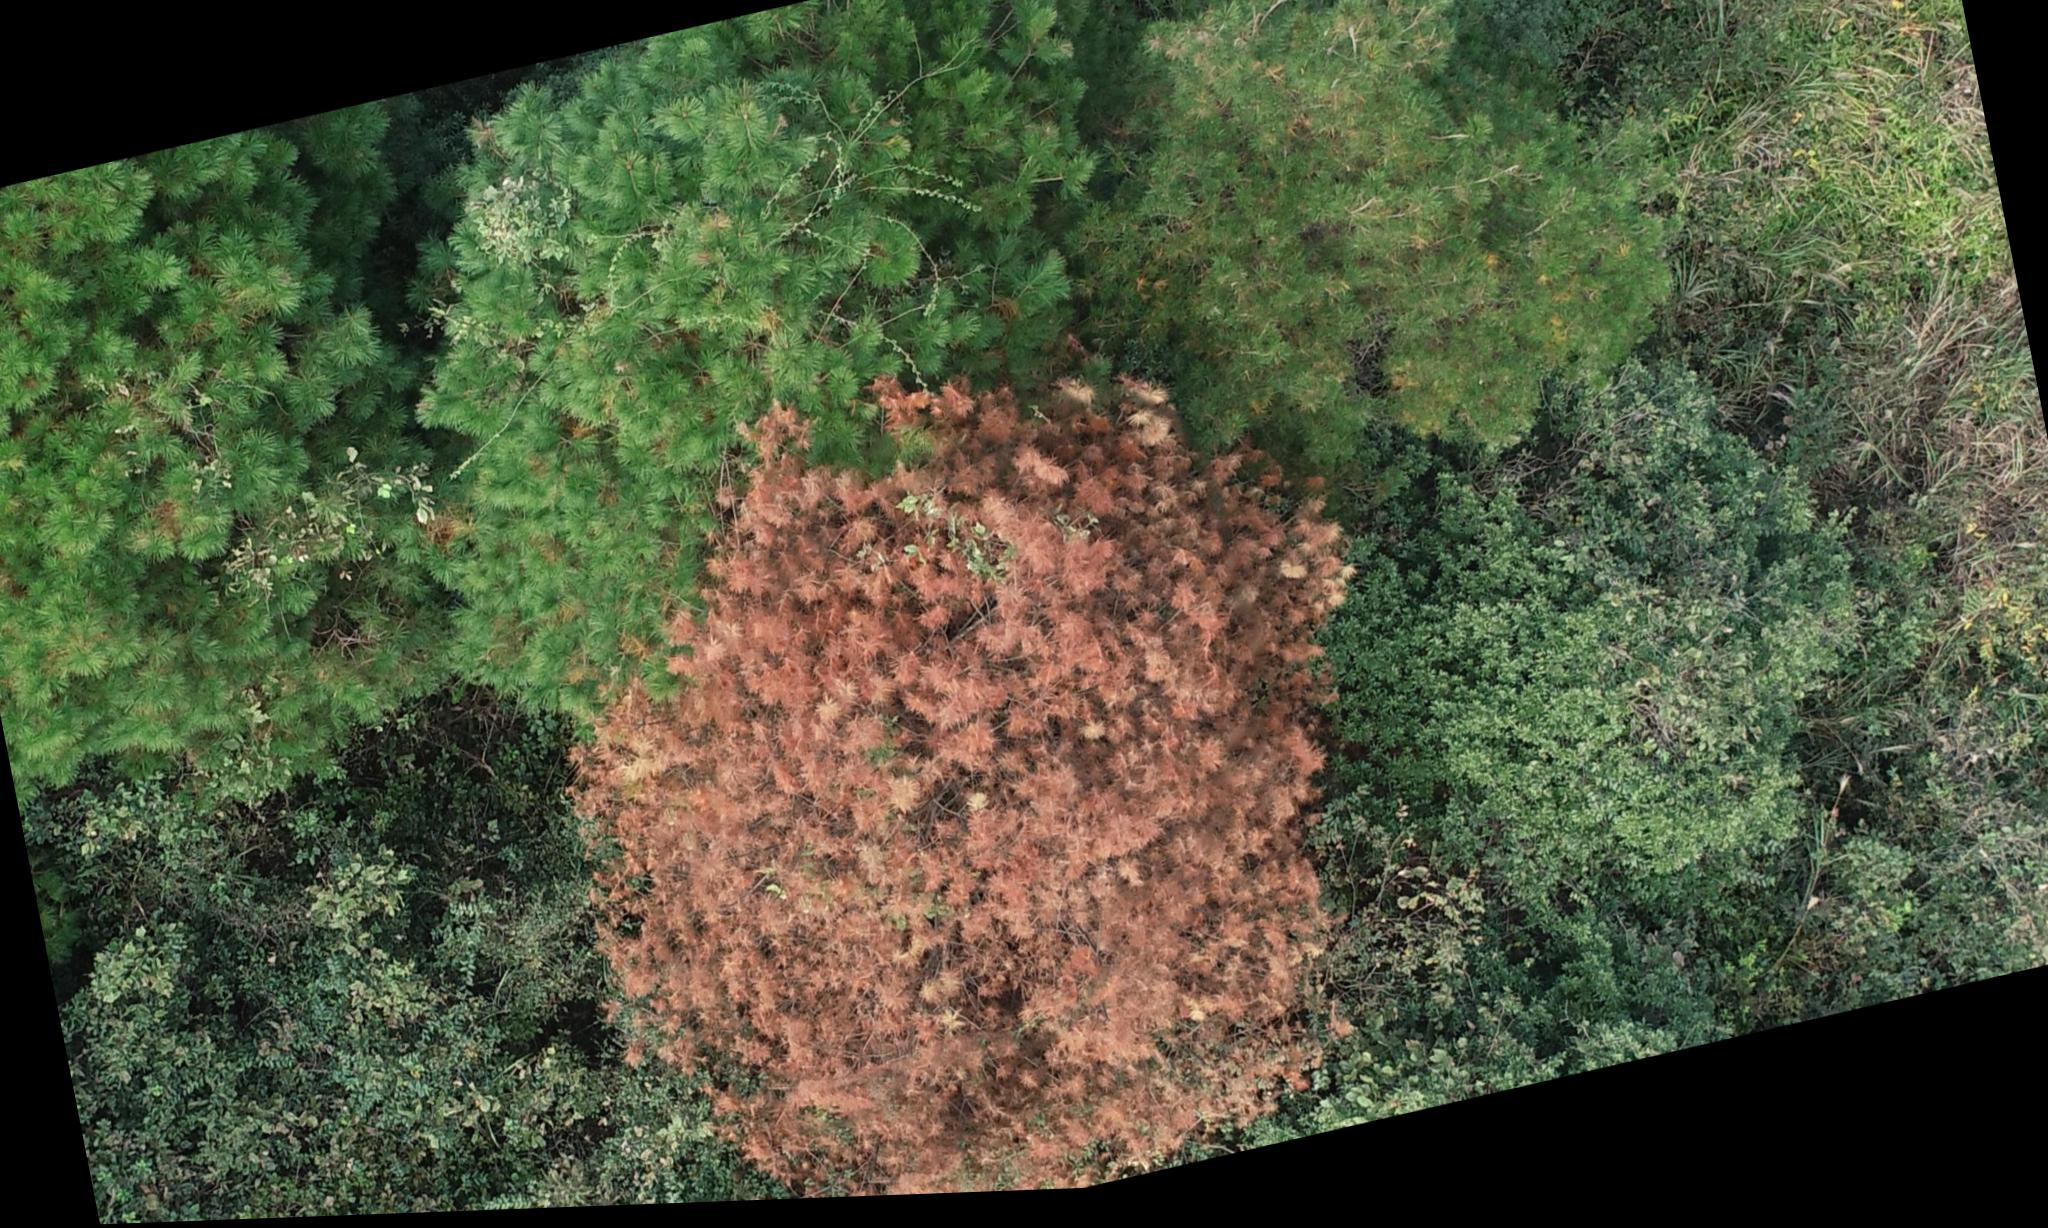heavy: (542, 308, 1415, 1212)
light: (1207, 0, 1699, 491)
